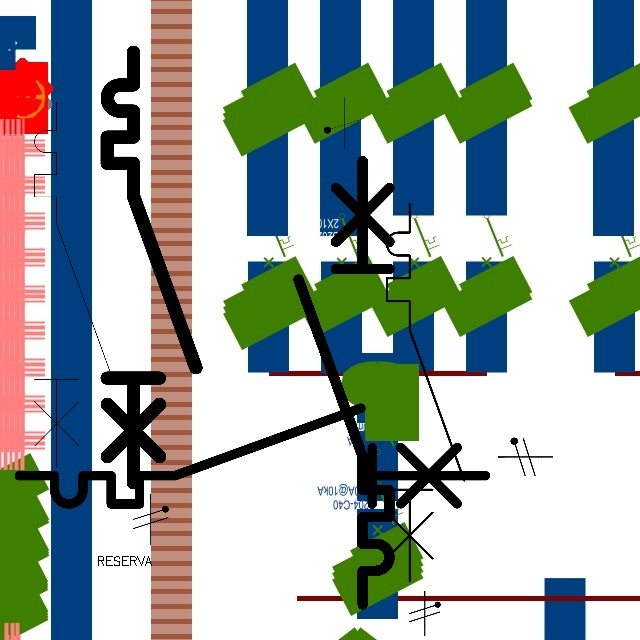interruptor_termomagnetico: (7, 396, 497, 516), (287, 149, 401, 615), (96, 41, 207, 494), (377, 194, 474, 591), (25, 93, 119, 478)
